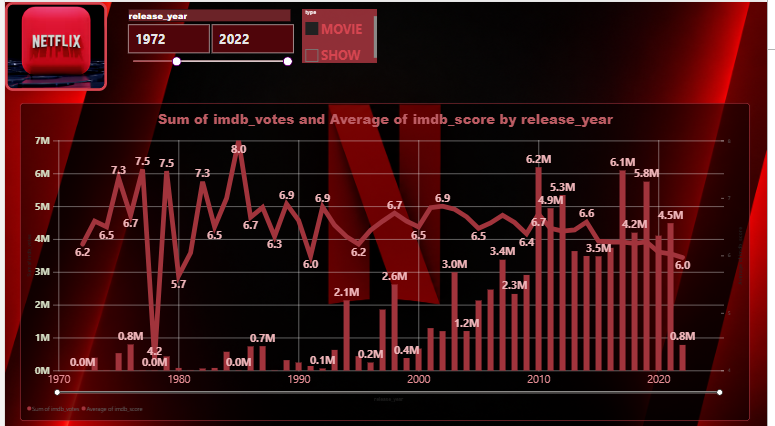

This screenshot's page, from the dashboard's own definition file:
{"tool":"powerbi","page":{"name":"Dashboard-3","canvas":[1280,720],"ordinal":2},"visuals":[{"type":"image","box":[1.2,0,149.7,148.5],"z":0},{"type":"slicer","fields":{"Values":["Netflix TV Shows and Movies.release_year"]},"box":[166,22,303.3,126.2],"z":1000},{"type":"slicer","fields":{"Values":["Netflix TV Shows and Movies.type"]},"box":[490.8,22.1,149.7,115.3],"z":2000},{"type":"lineClusteredColumnComboChart","fields":{"Category":["Netflix TV Shows and Movies.release_year"],"Y2":["Avg(Netflix TV Shows and Movies.imdb_score)"],"Y":["Sum(Netflix TV Shows and Movies.imdb_votes)"]},"box":[0,168.8,1280.3,551.6],"z":4001}]}

Visuals, with their boxes in screenshot pixels (x1, y1, x2, y2), scaled from the page's 1280x720 canvas onto the 775x426 screenshot:
image: region(1, 0, 91, 88)
slicer - Netflix TV Shows and Movies.release_year: region(101, 13, 284, 88)
slicer - Netflix TV Shows and Movies.type: region(297, 13, 388, 81)
lineClusteredColumnComboChart - Netflix TV Shows and Movies.release_year x Avg(Netflix TV Shows and Movies.imdb_score): region(0, 100, 774, 425)
